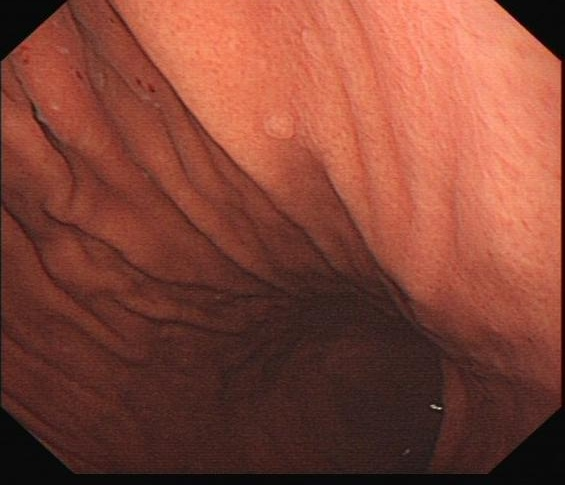Polyp: (246, 82, 310, 155)
